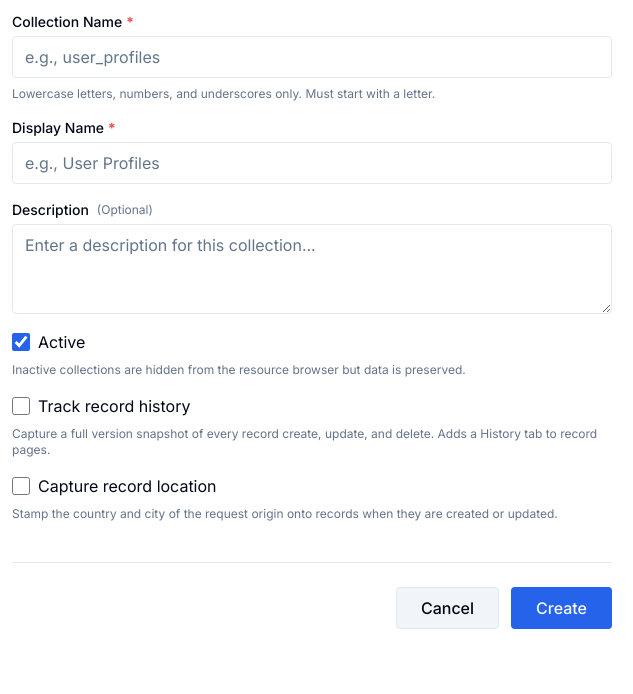
it: CollectionForm Component › Validation - Name Field › should show error when name contains uppercase letters
The image size is (633, 694).
Type "TestCollection" into the field with test id "collection-name-input".
click(312, 57); type("TestCollection")  # box left=12, top=36, right=612, bottom=78
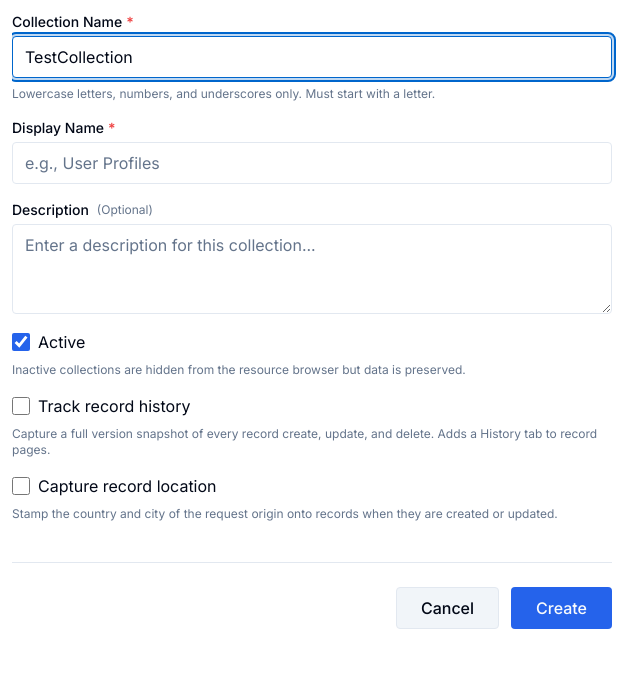
Press Tab
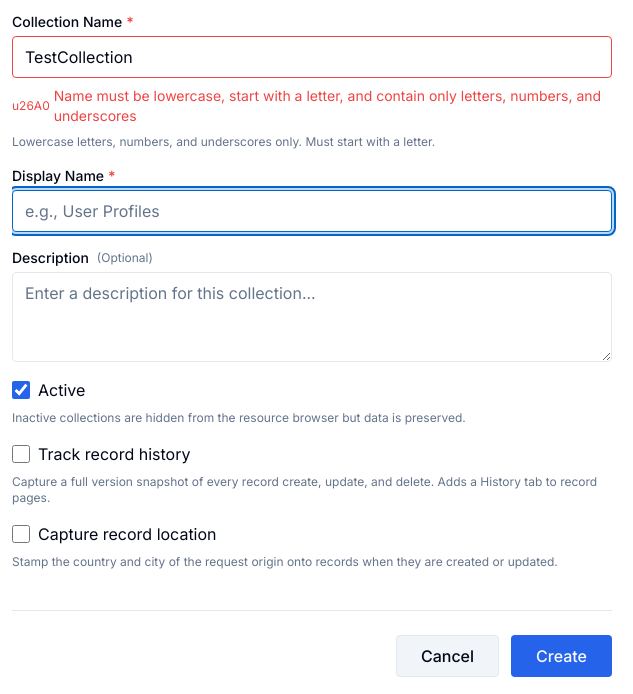
expect the message with test id "name-error" is shown: met, box left=12, top=86, right=612, bottom=126
